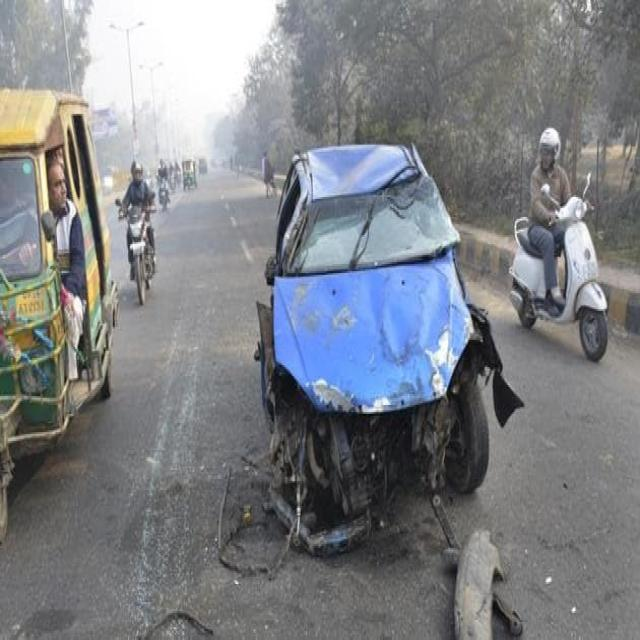accident: (255, 147, 523, 554)
autorickshaw: (0, 89, 119, 539)
motorcycle: (510, 127, 607, 360), (115, 160, 156, 304)
